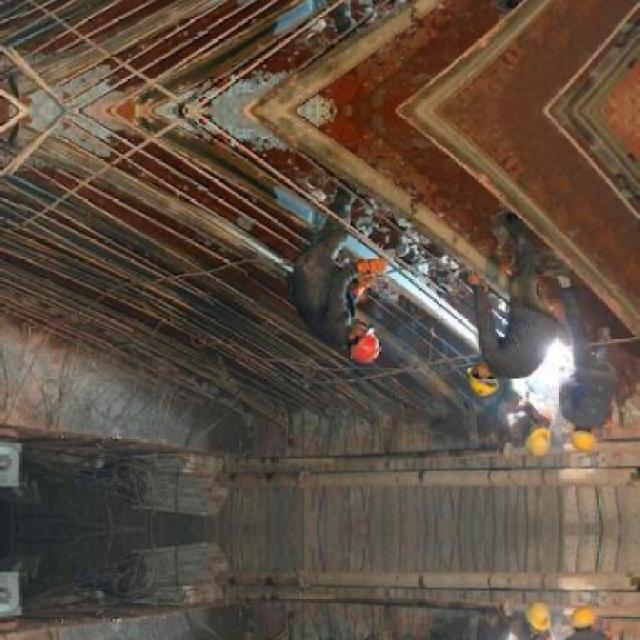con casco: (324, 303, 393, 389), (456, 354, 514, 401)
